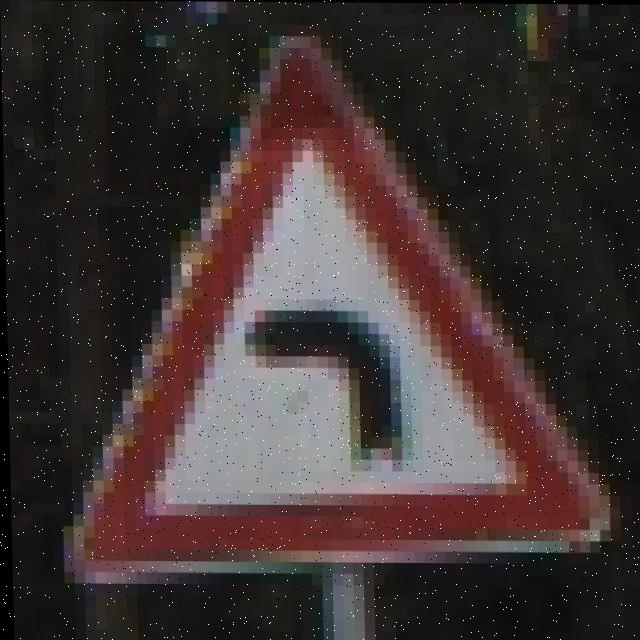left_turn: (54, 77, 611, 563)
